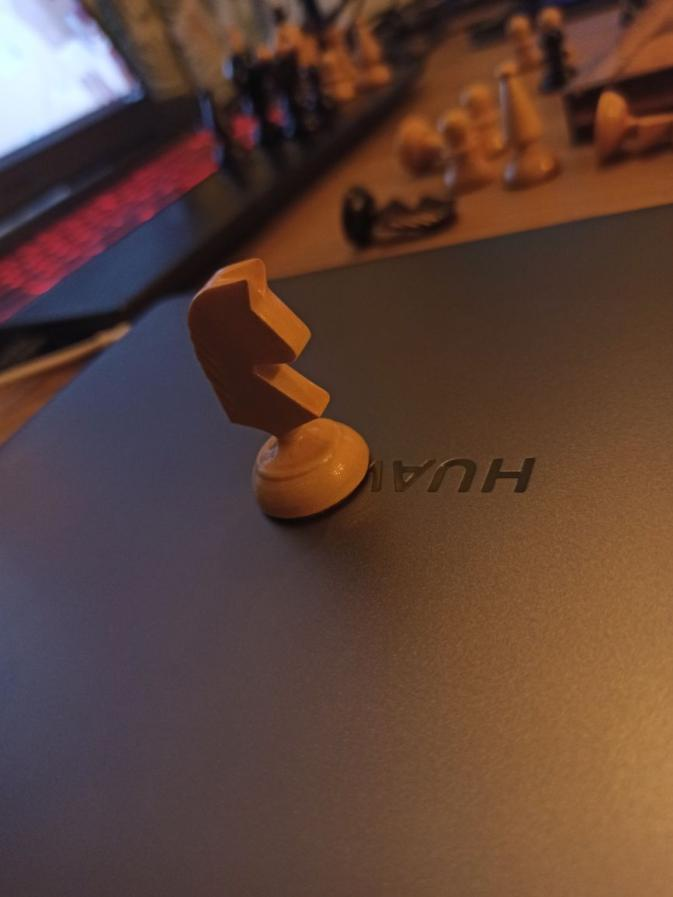wknight: (187, 258, 368, 526)
